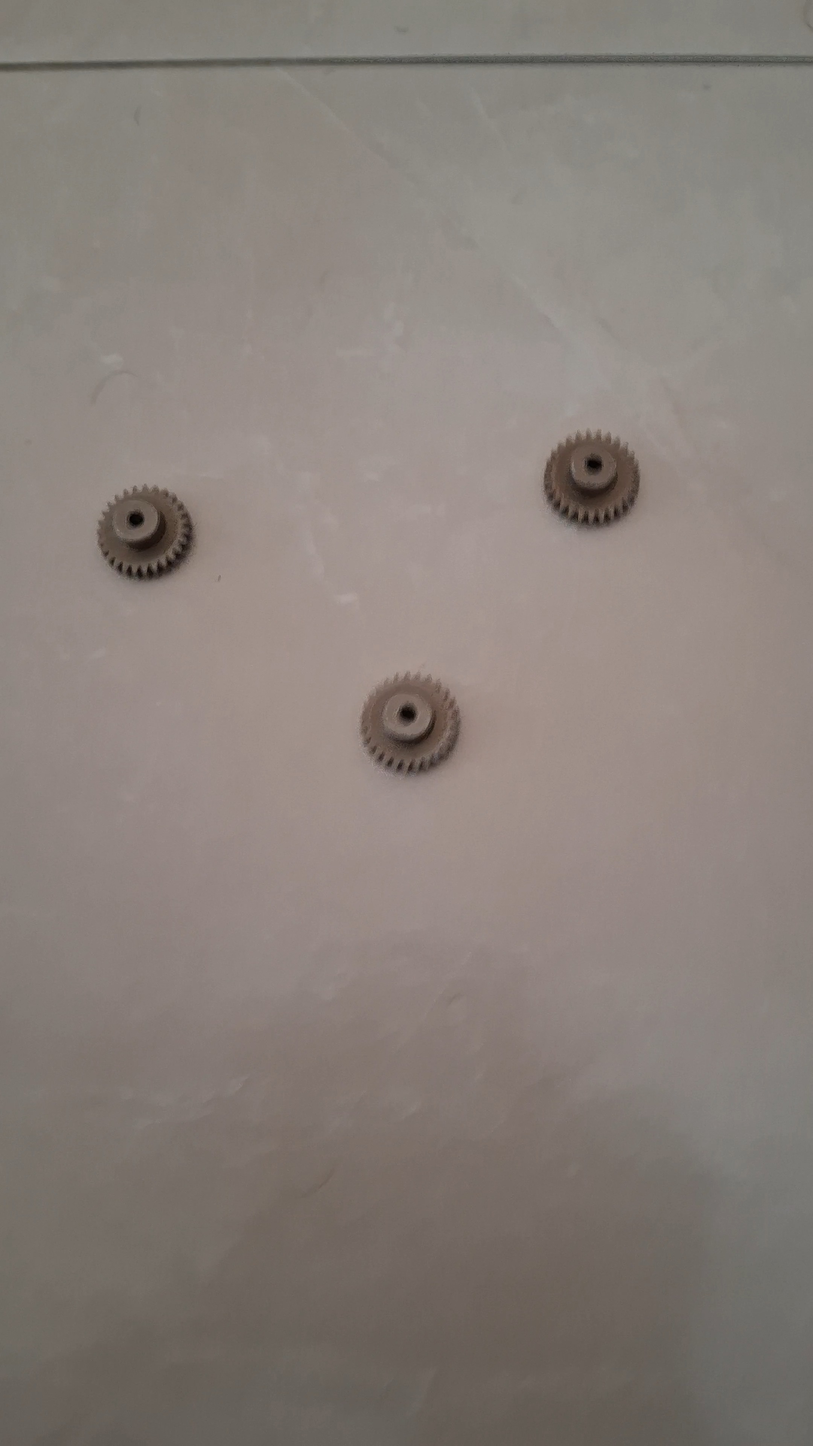spur gear: (360, 674, 460, 772), (544, 432, 639, 524), (98, 488, 191, 578)
